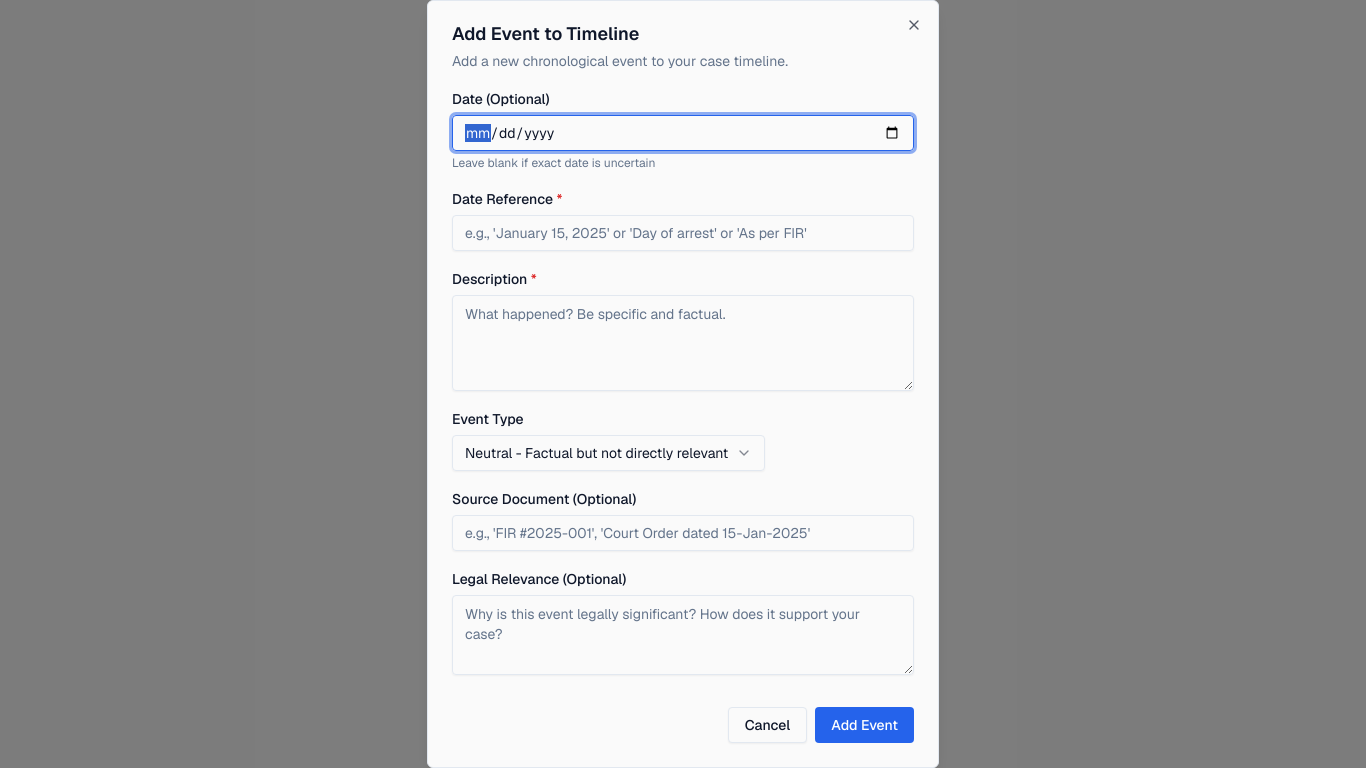
it: AddEventDialog Component › allows selecting event type
Click the dropdown.
click(609, 453)  # box [452, 435, 765, 471]
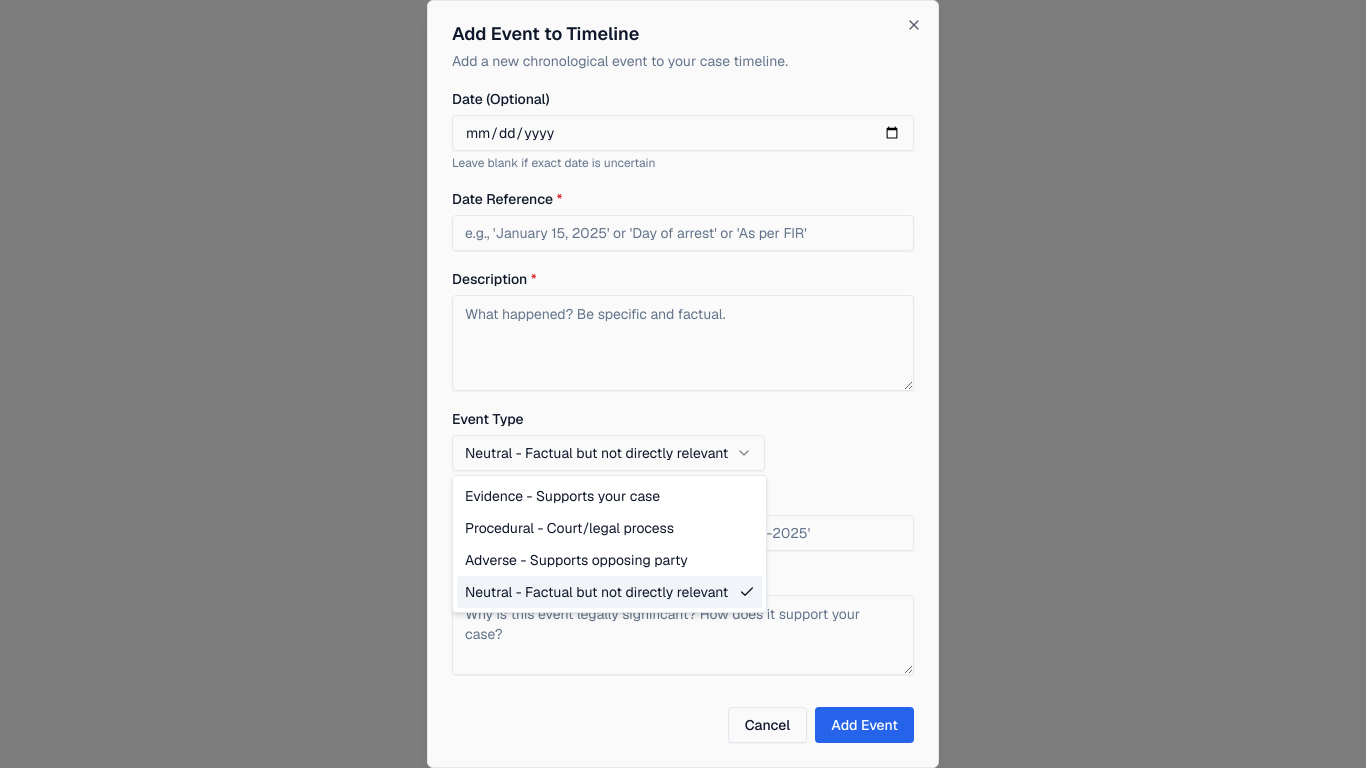
Click the option "Adverse - Supports opposing party".
click(576, 560)  # box [465, 551, 688, 569]
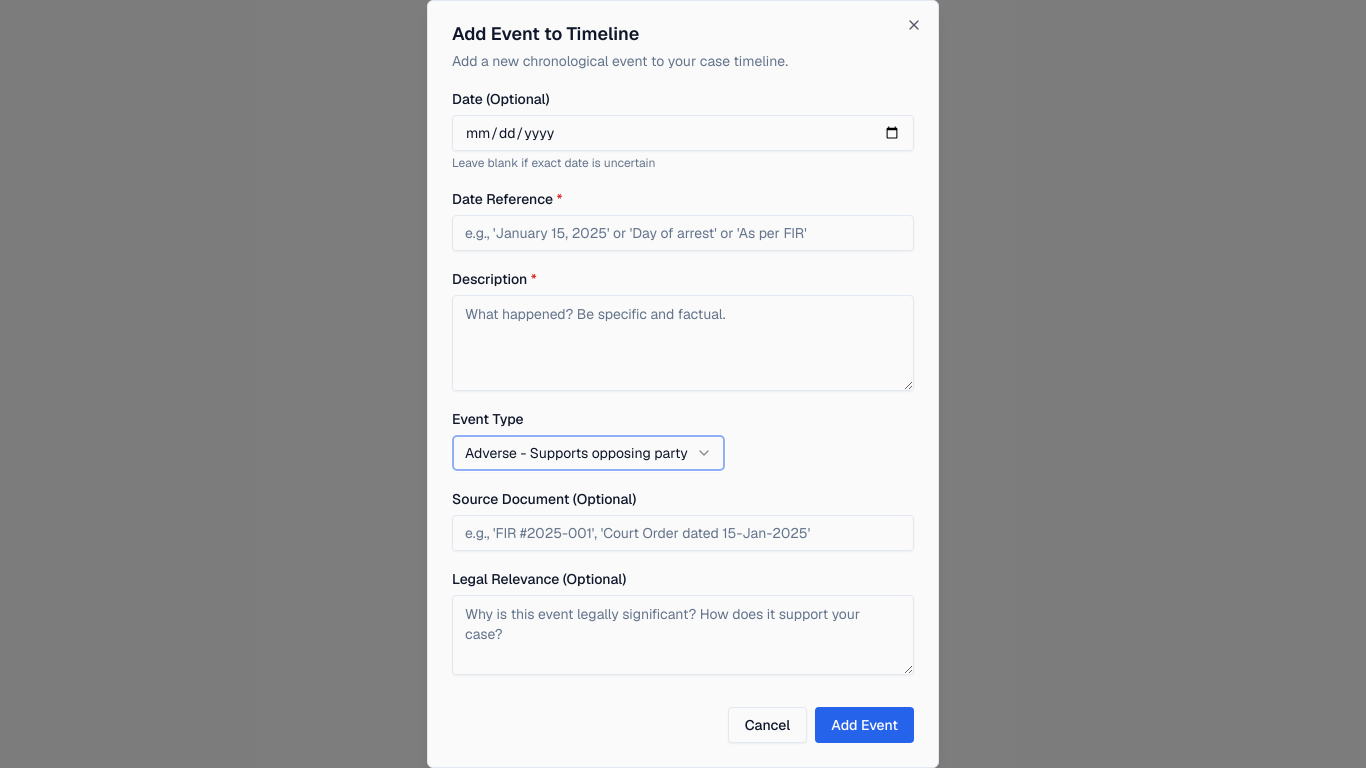
Result: the dropdown shows "Adverse" at [452, 435, 725, 471]
